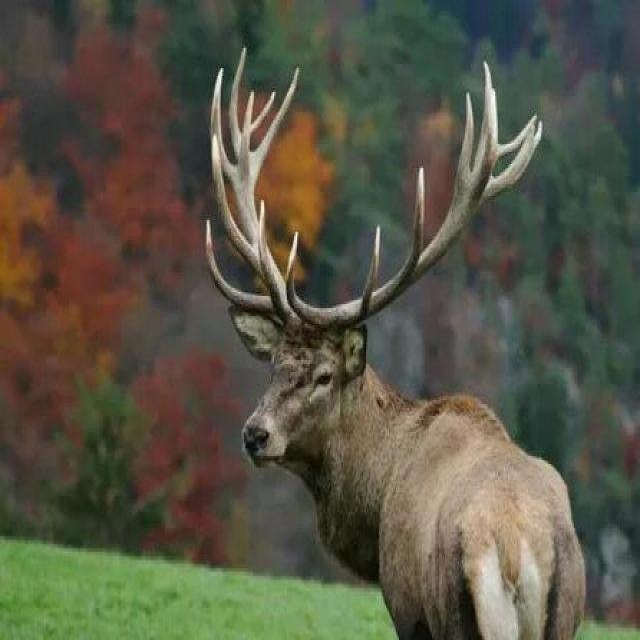deer: (186, 86, 588, 614)
